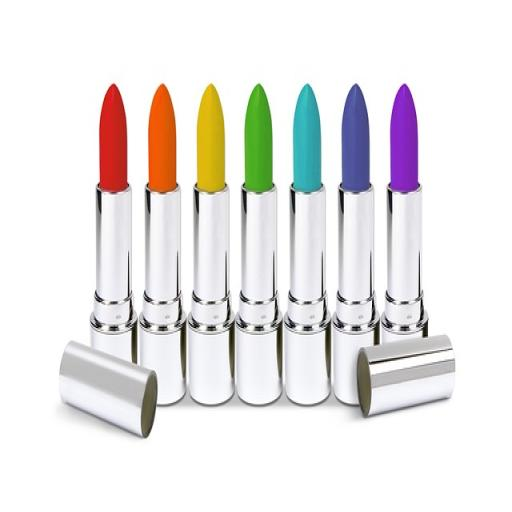lipstick: (188, 85, 235, 404), (236, 85, 282, 404), (140, 85, 186, 404), (333, 85, 379, 404), (284, 85, 330, 404), (91, 85, 136, 362), (381, 85, 427, 341)
